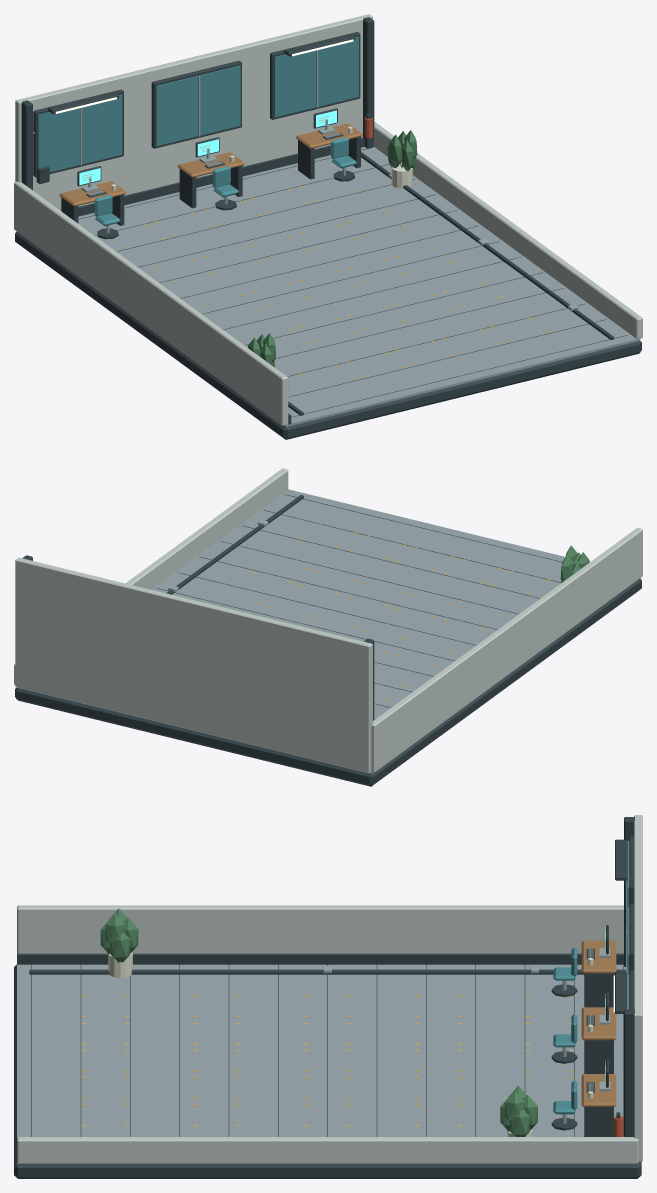
The model's file is technopark.glb.
The picture shows the model from 3 angles, top to bottom: view 1: azimuth 30°, elevation 25°; view 2: azimuth 150°, elevation 25°; view 3: azimuth 270°, elevation 25°; orthographic projection. The views are drawn at different scales.
Parts seen in each view (by area): view 1: 01 / mineral floor, 02 / painted plaster, 03 / charcoal steel, 08 / glass, 05 / warm oak, 10 / foliage, 04 / brushed alloy, 11 / safety paint, 12 / screen, 06 / ivory; view 2: 02 / painted plaster, 01 / mineral floor, 03 / charcoal steel, 10 / foliage, 11 / safety paint; view 3: 01 / mineral floor, 02 / painted plaster, 03 / charcoal steel, 05 / warm oak, 10 / foliage, 08 / glass, 11 / safety paint, 04 / brushed alloy, 06 / ivory.
Part boxes in pixels (x1,y1,x2,y2): 01 / mineral floor: (78, 147, 640, 427); 02 / painted plaster: (14, 14, 642, 425); 03 / charcoal steel: (15, 17, 641, 439); 08 / glass: (38, 36, 358, 226); 05 / warm oak: (59, 123, 362, 206); 10 / foliage: (247, 130, 417, 367); 04 / brushed alloy: (33, 50, 578, 310); 11 / safety paint: (125, 186, 549, 388); 12 / screen: (79, 110, 336, 185); 06 / ivory: (82, 116, 412, 190); 02 / painted plaster: (14, 468, 642, 773); 01 / mineral floor: (72, 489, 565, 773); 03 / charcoal steel: (15, 494, 641, 786); 10 / foliage: (560, 545, 589, 582); 11 / safety paint: (221, 523, 550, 700); 01 / mineral floor: (17, 964, 638, 1164); 02 / painted plaster: (17, 815, 642, 1163); 03 / charcoal steel: (14, 817, 641, 1178); 05 / warm oak: (581, 940, 616, 1106); 10 / foliage: (100, 908, 537, 1136); 08 / glass: (553, 841, 629, 1114); 11 / safety paint: (81, 995, 574, 1126); 04 / brushed alloy: (323, 880, 627, 1123); 06 / ivory: (108, 932, 605, 1136).
Size of the model in its own units: 9.78 by 3.68 by 12.75.
